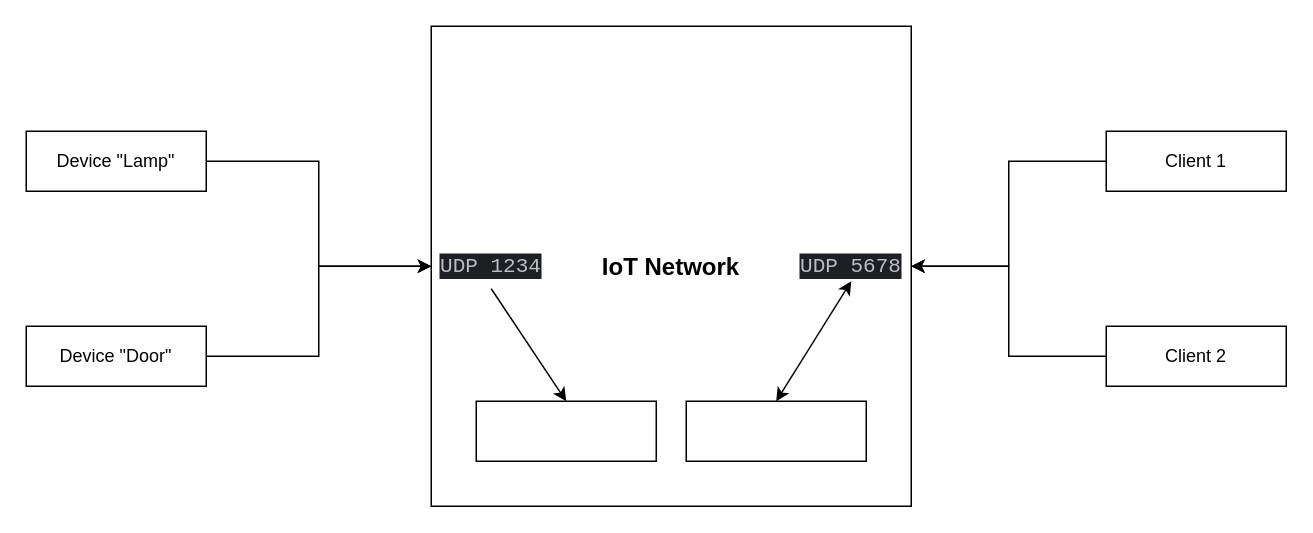
The diagram is 1313 pixels wide and 533 high, and some of its shapes have lost their labels. The shapes that lost their labels are listed below. From the top down, each one's box as (x1, y1, x2, y2) in pixels, then its label:
(475, 400, 656, 461): Device worker
(685, 400, 866, 461): Clients worker
